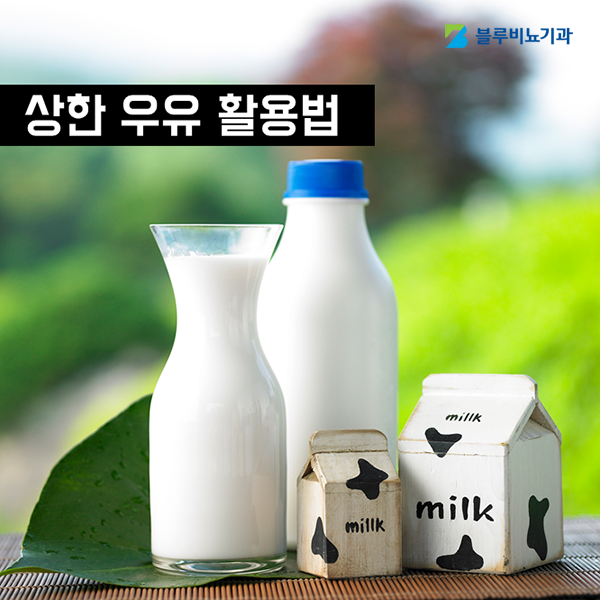milk: (255, 160, 401, 551), (145, 222, 285, 569), (399, 375, 566, 573), (299, 431, 400, 579)
